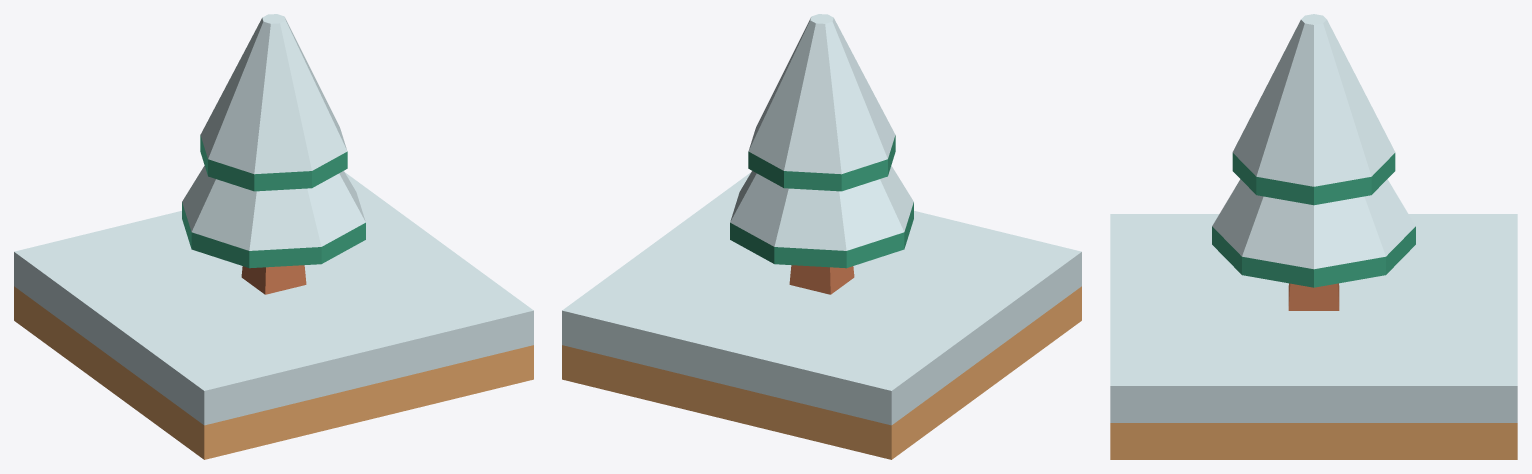
File: snow_tile_tree.obj
3 renders of one model, left to right at view 1: azimuth 30°, elevation 25°; view 2: azimuth 150°, elevation 25°; view 3: azimuth 270°, elevation 25°, orthographic. The views are drawn at different scales.
Visible parts, largest first — view 1: snow_tile_tree, tree; view 2: snow_tile_tree, tree; view 3: snow_tile_tree, tree.
Boxes of the visible parts, left/top/right/bottom form: snow_tile_tree: left=14, top=172, right=533, bottom=459; tree: left=182, top=14, right=365, bottom=294; snow_tile_tree: left=562, top=172, right=1081, bottom=459; tree: left=730, top=14, right=913, bottom=294; snow_tile_tree: left=1110, top=214, right=1517, bottom=459; tree: left=1212, top=14, right=1415, bottom=310.
Bounding box in the file's own units: 1 × 0.96 × 1.
